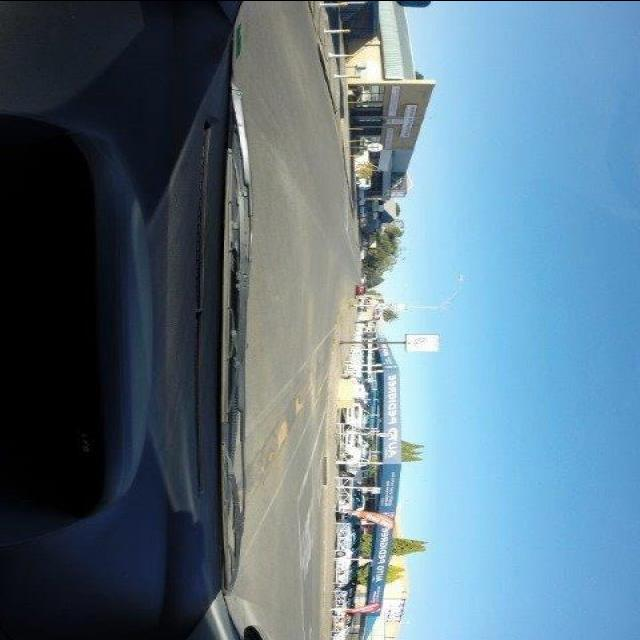lubang: (262, 415, 296, 456), (290, 394, 314, 418)
